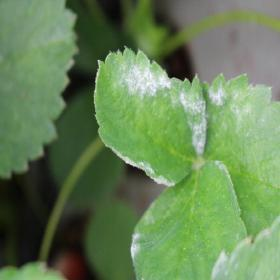Powdery Mildew Leaf: (92, 45, 208, 187), (198, 71, 279, 240), (131, 161, 247, 279)
